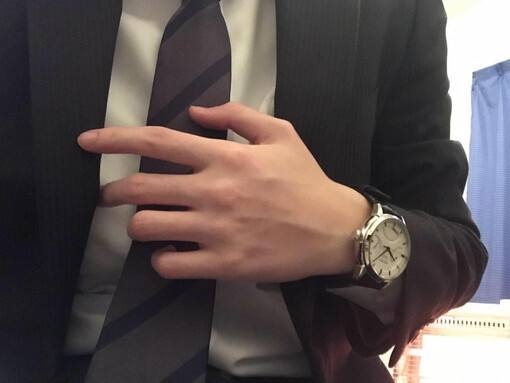no-phone: (74, 102, 334, 286)
